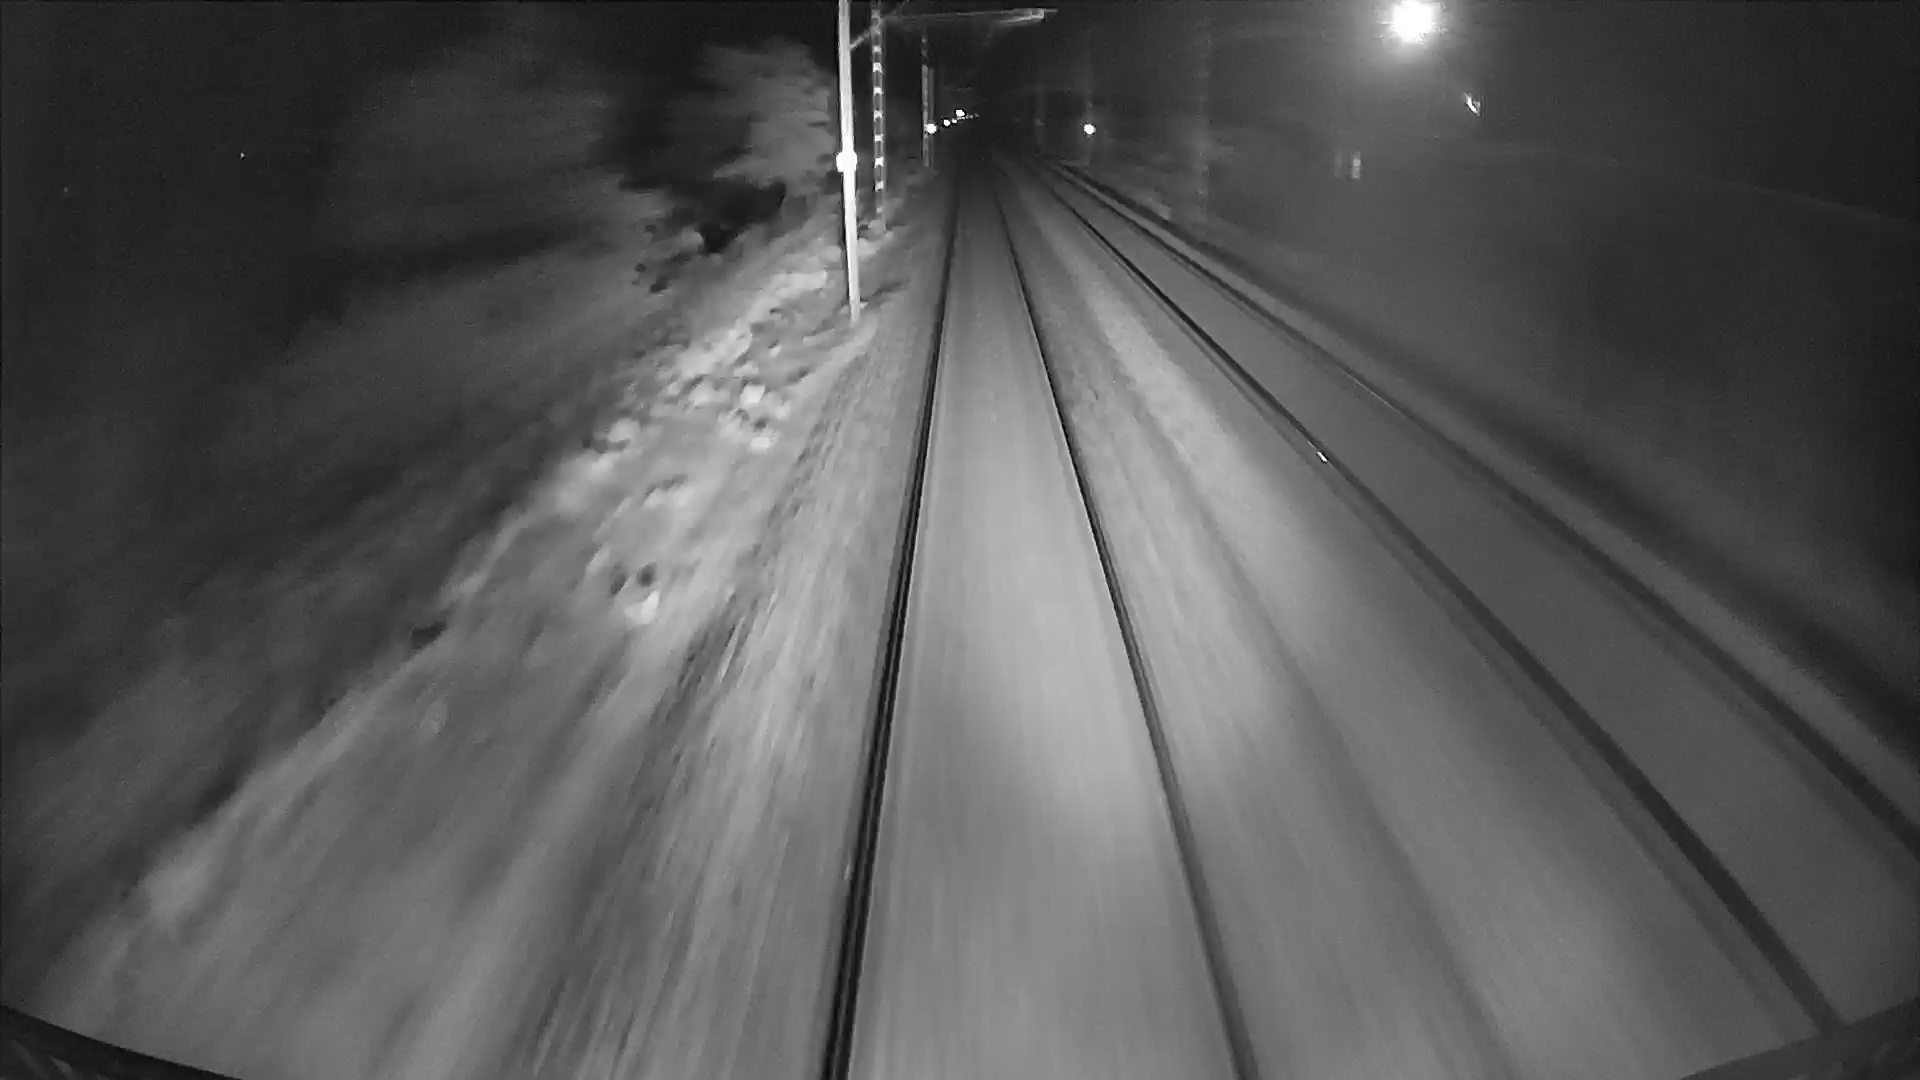track1: (840, 156, 1246, 1065)
track2: (1042, 177, 1909, 1013)
